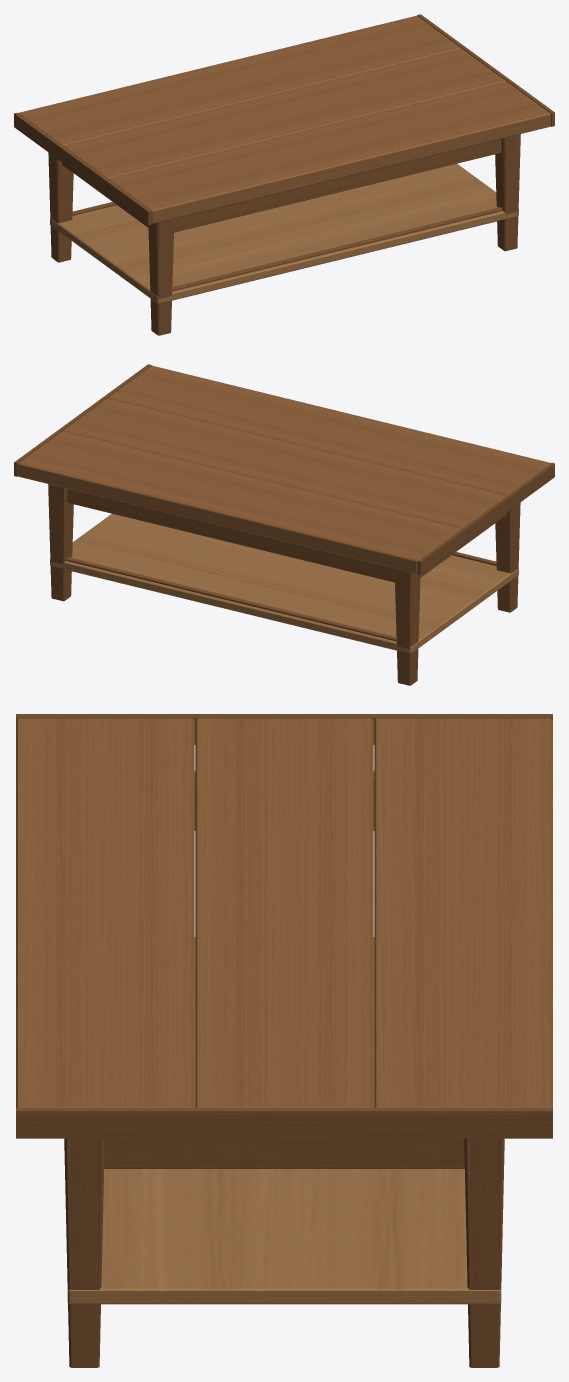
The model's file is coffee_table.glb.
3 renders of one model, top to bottom at view 1: azimuth 30°, elevation 25°; view 2: azimuth 150°, elevation 25°; view 3: azimuth 270°, elevation 25°, orthographic. The views are drawn at different scales.
Visible parts, largest first — view 1: home_coffee_table; view 2: home_coffee_table; view 3: home_coffee_table.
Boxes of the visible parts, x1,y1,x2,y2 form: home_coffee_table: [14, 14, 554, 335]; home_coffee_table: [14, 364, 554, 685]; home_coffee_table: [16, 714, 552, 1367].
Bounding box in the file's own units: 1.4 × 0.46 × 0.8.
1 material, 1 textured.
